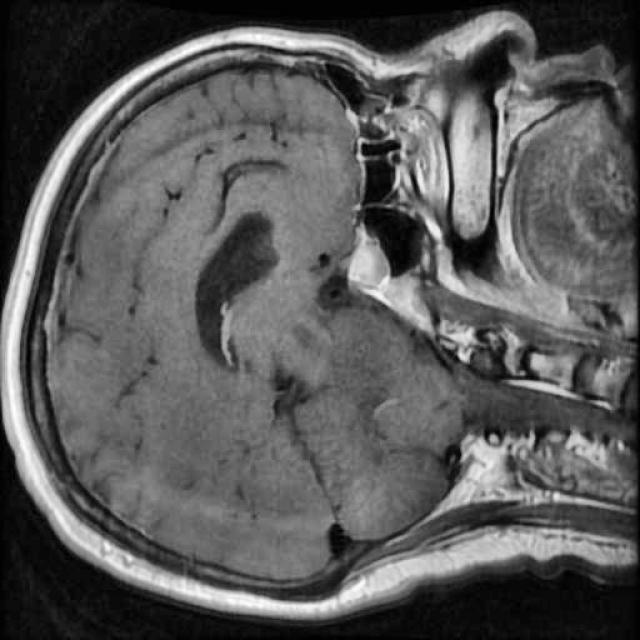Tumor: (339, 220, 402, 296)
